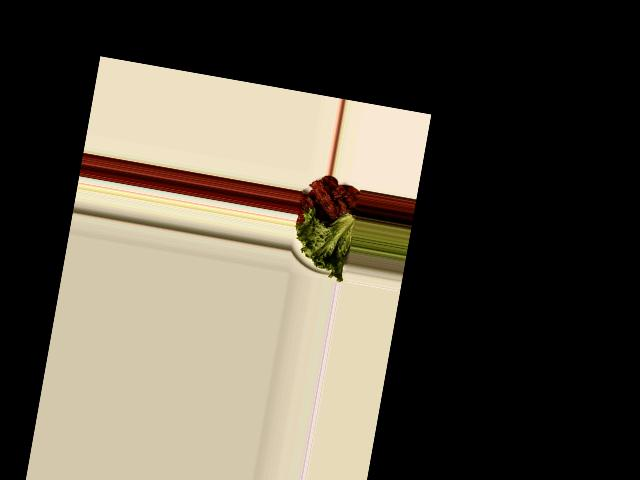lettuce: (289, 205, 357, 279)
